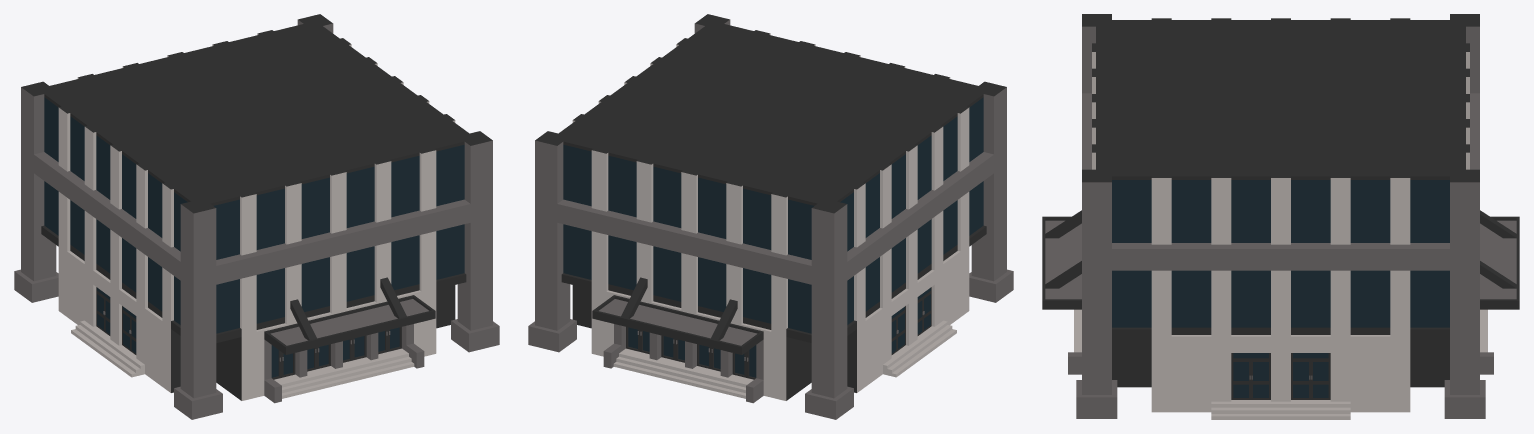
File: skyscraper-part-bottom.glb
3 renders of one model, left to right at view 1: azimuth 30°, elevation 25°; view 2: azimuth 150°, elevation 25°; view 3: azimuth 270°, elevation 25°, orthographic. The views are drawn at different scales.
Visible parts, largest first — view 1: skyscraper-part-bottom; view 2: skyscraper-part-bottom; view 3: skyscraper-part-bottom.
Boxes of the visible parts, box(x1,y1,x2,y2) form: skyscraper-part-bottom: box(14, 14, 499, 419); skyscraper-part-bottom: box(528, 14, 1013, 419); skyscraper-part-bottom: box(1042, 14, 1519, 419).
Bounding box in the file's own units: 20.8 × 13 × 24.
1 material, 1 textured.
